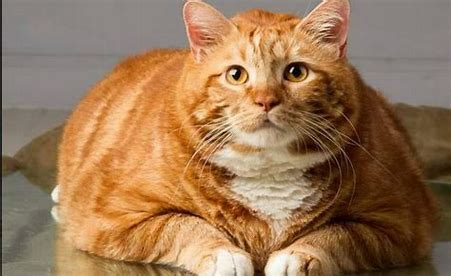cat: (37, 4, 436, 276)
